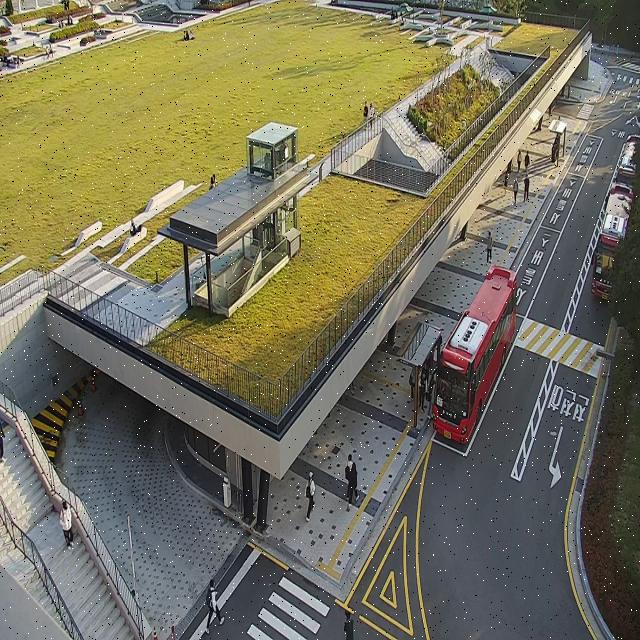queue: (416, 331, 444, 430)
